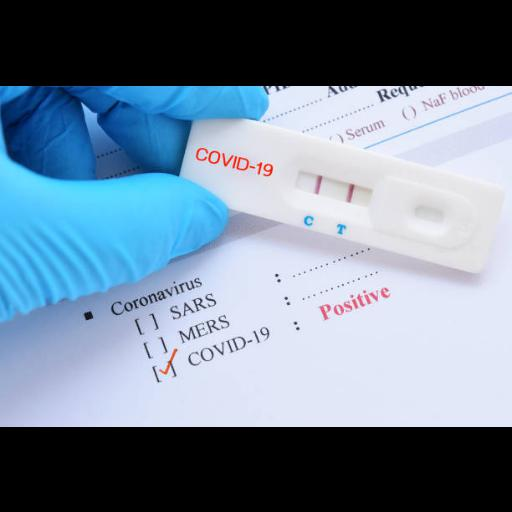Pos: (176, 109, 505, 274)
